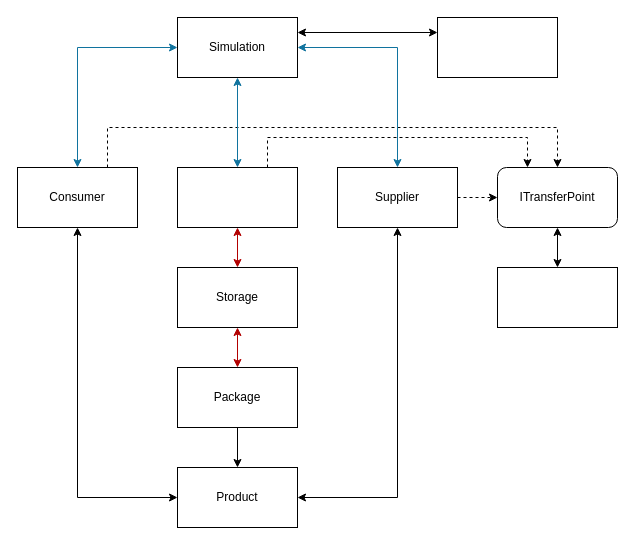
Image size: 635x545. Some labels were removed from this diagram. The centre of each missing label's shape, as x and y in pixels:
"Commands" goes at point 557,297.
"DayReport" goes at point 497,47.
"Warehouse" goes at point 237,197.
